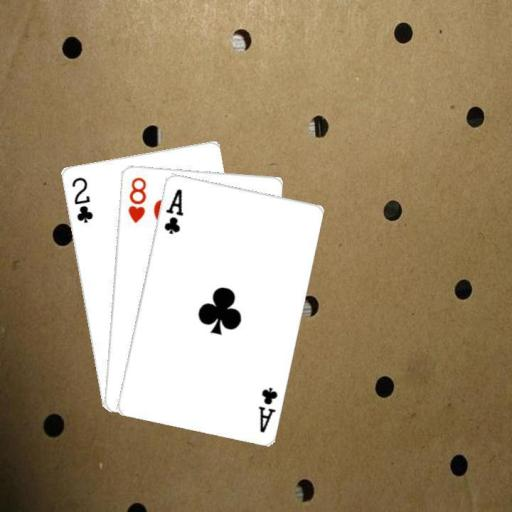card-corner: (68, 174, 94, 224), (254, 383, 278, 434), (124, 174, 148, 224), (160, 186, 184, 236)
